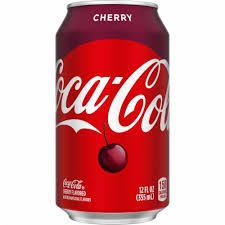can: (55, 1, 171, 225)
